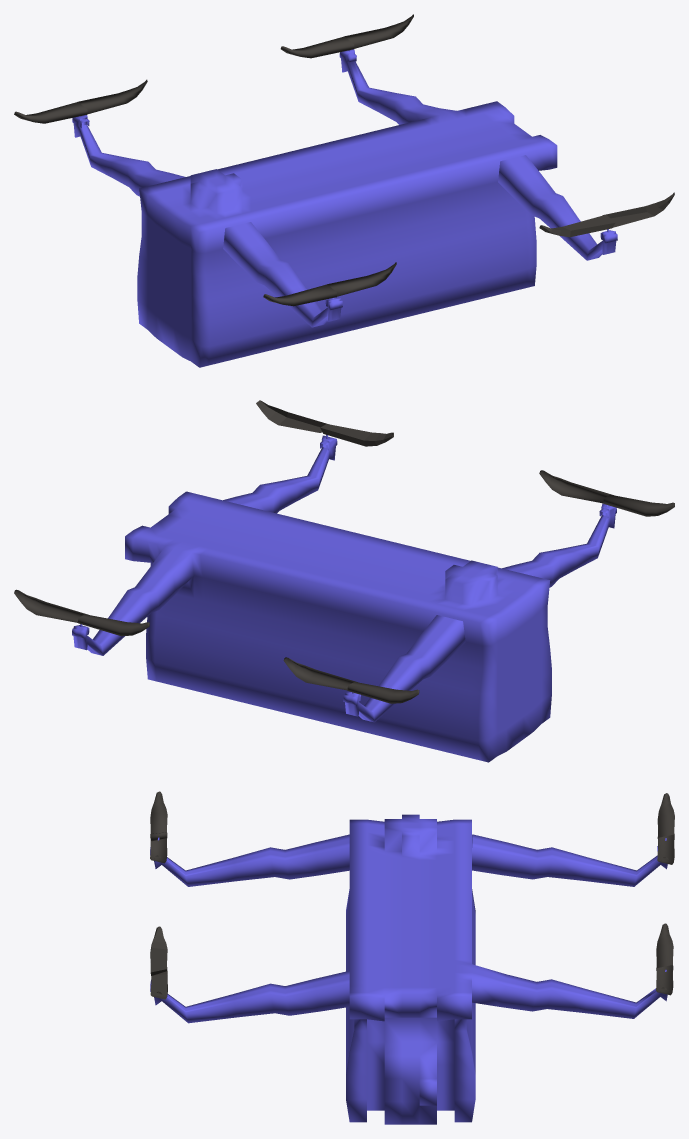
Rendered from dronMorado.fbx.
The picture shows the model from 3 angles, top to bottom: view 1: azimuth 30°, elevation 25°; view 2: azimuth 150°, elevation 25°; view 3: azimuth 270°, elevation 25°; orthographic projection.
Visible parts, largest first — view 1: Cube.004; view 2: Cube.004; view 3: Cube.004.
Part boxes in pixels (left/top/right/bottom): Cube.004: left=14, top=14, right=674, bottom=367; Cube.004: left=14, top=400, right=674, bottom=762; Cube.004: left=150, top=791, right=674, bottom=1124.
Size of the model in its own units: 246 by 88.14 by 337.
